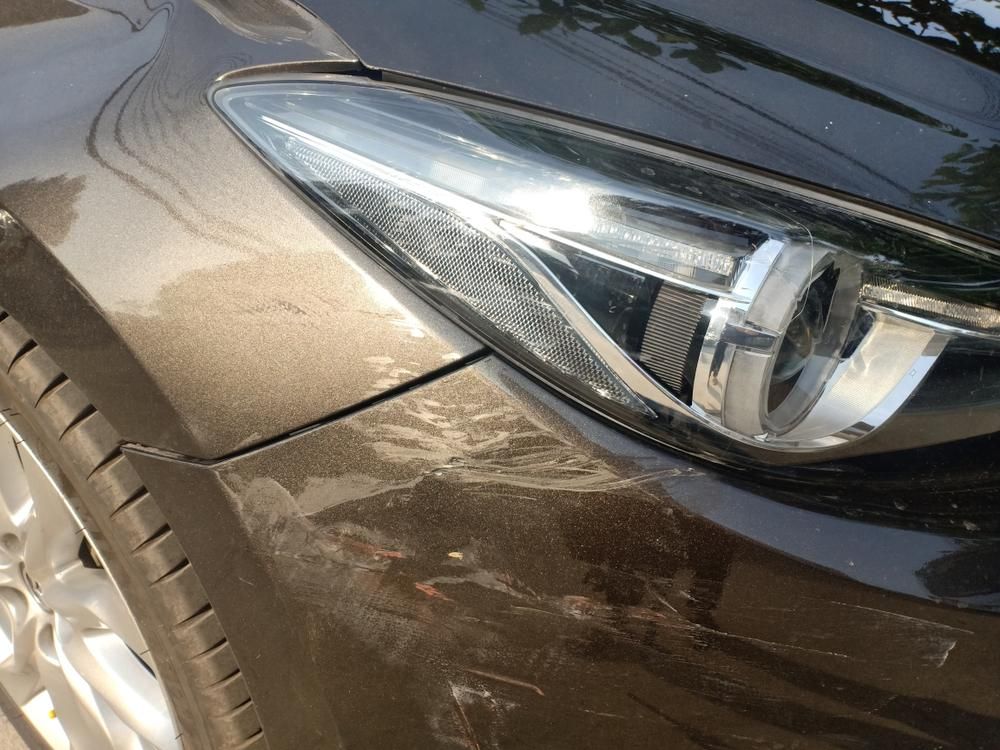scratch: (213, 367, 984, 750)
